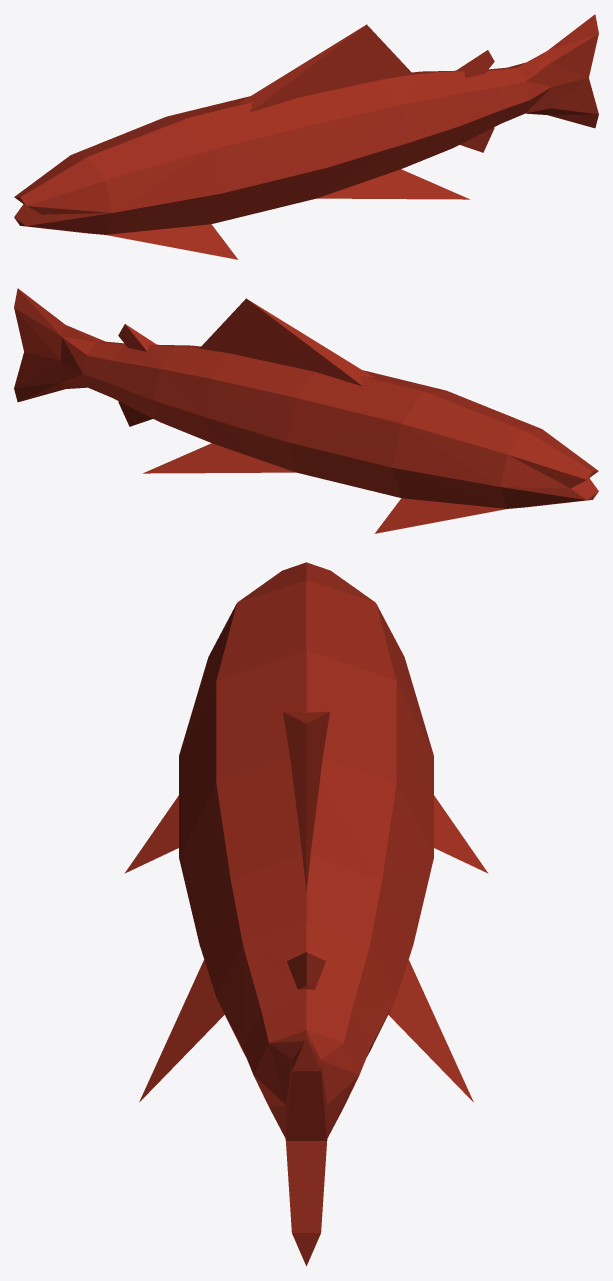
File: fish-large-coral.glb
3 renders of one model, top to bottom at view 1: azimuth 30°, elevation 25°; view 2: azimuth 150°, elevation 25°; view 3: azimuth 270°, elevation 25°, orthographic. The views are drawn at different scales.
Visible parts, largest first — view 1: fish-large-coral; view 2: fish-large-coral; view 3: fish-large-coral.
Part boxes in pixels (box(x1,y1,x2,y2)): fish-large-coral: box(14, 14, 598, 259); fish-large-coral: box(14, 288, 598, 533); fish-large-coral: box(124, 562, 488, 1266).
Size of the model in its own units: 1.13 by 0.3 by 0.31.
